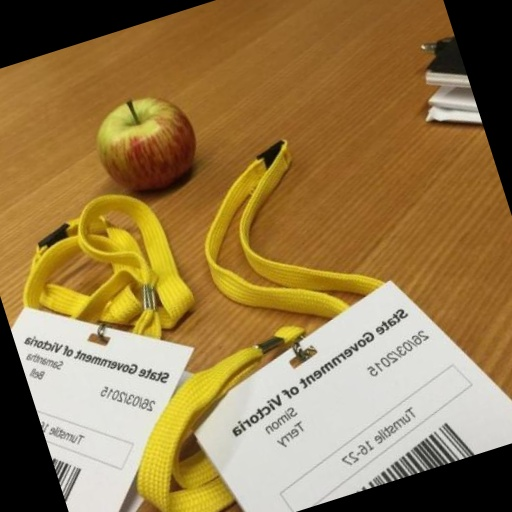fruit: (35, 24, 358, 257)
